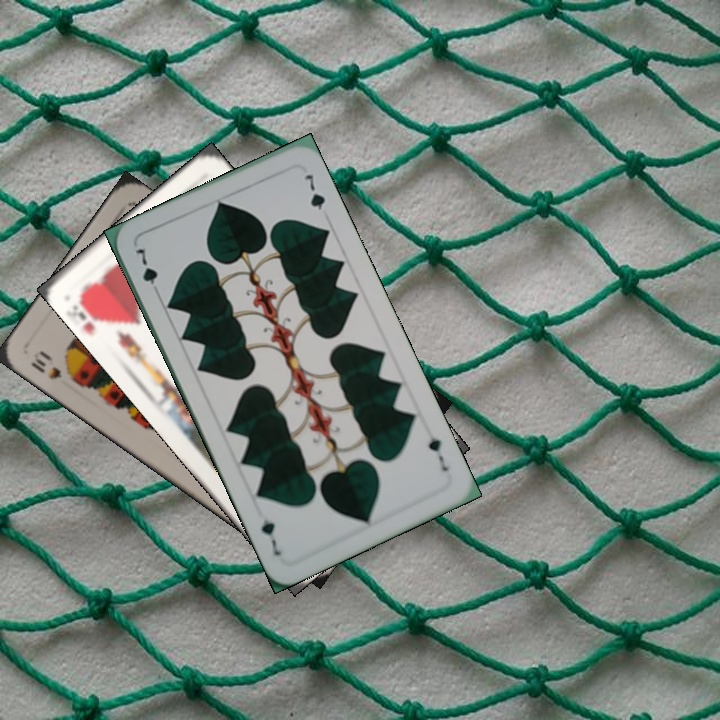G7: (131, 244, 163, 298), (424, 433, 451, 474)
HK: (65, 289, 111, 329)
S10: (26, 347, 78, 386)
